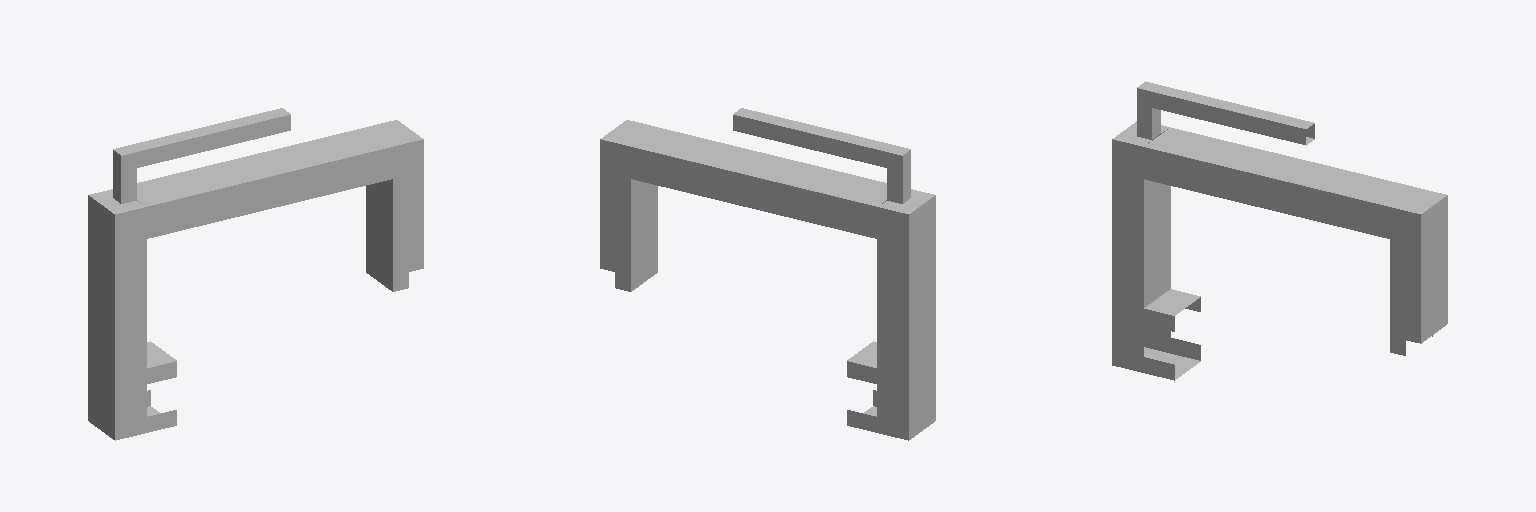
Rendered from hydrojet_arm.obj.
3 renders of one model, left to right at view 1: azimuth 30°, elevation 25°; view 2: azimuth 150°, elevation 25°; view 3: azimuth 330°, elevation 25°, orthographic.
Parts seen in each view (by area): view 1: Arm_Cube.005; view 2: Arm_Cube.005; view 3: Arm_Cube.005.
Part boxes in pixels (x1,y1,x2,y2): Arm_Cube.005: (88, 108, 423, 440); Arm_Cube.005: (600, 108, 935, 440); Arm_Cube.005: (1112, 81, 1447, 380).
Bounding box in the file's own units: 1.25 × 1.06 × 0.1875.